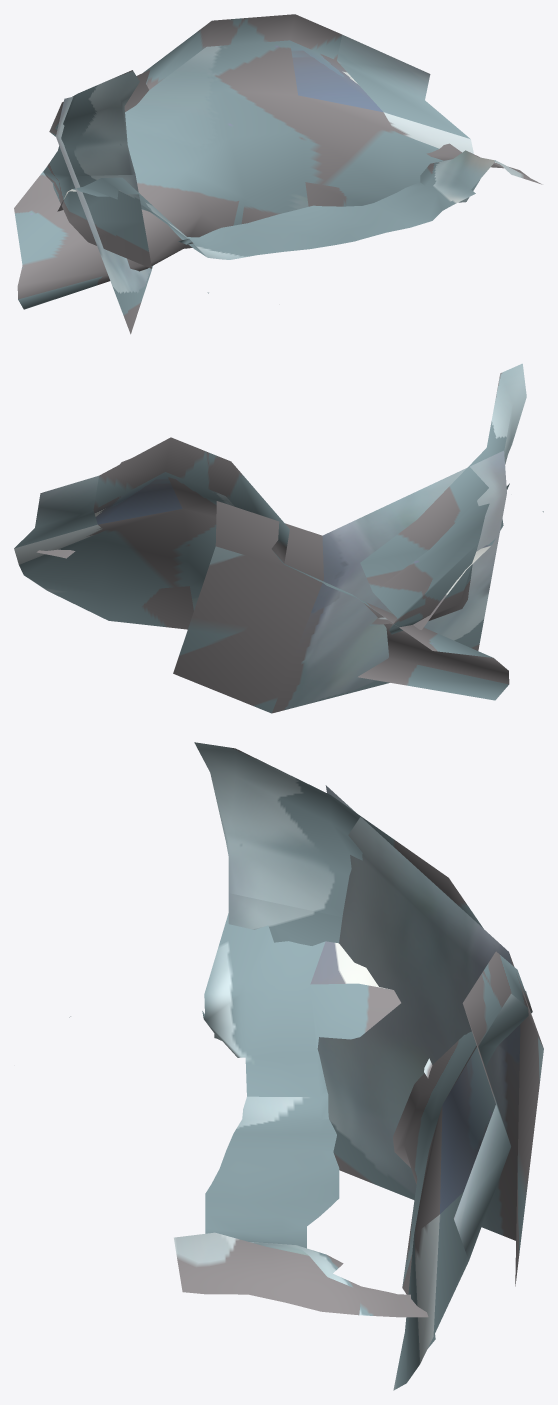
File: river.fbx
The picture shows the model from 3 angles, top to bottom: view 1: azimuth 30°, elevation 25°; view 2: azimuth 150°, elevation 25°; view 3: azimuth 270°, elevation 25°; orthographic projection. The views are drawn at different scales.
Visible parts, largest first — view 1: Plane.013; view 2: Plane.013; view 3: Plane.013.
Boxes of the visible parts, left/top/right/bottom form: Plane.013: left=14, top=14, right=542, bottom=334; Plane.013: left=14, top=363, right=543, bottom=713; Plane.013: left=69, top=742, right=543, bottom=1390.
Size of the model in its own units: 4933 by 2932 by 3437.
